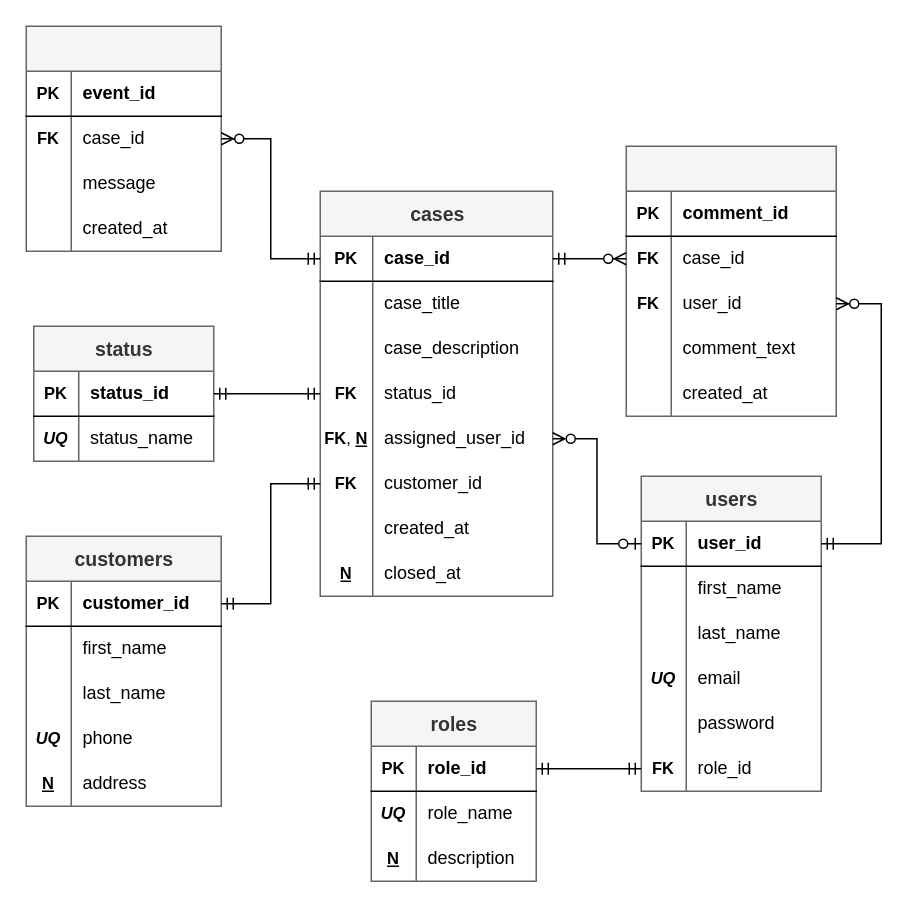
The diagram is 921 pixels wide and 908 high, and some of its shapes have lost their labels. The box of each missing label's shape, as (x1, y1, x2, y2) in pixels:
comments: (625, 145, 836, 416)
events: (25, 25, 221, 251)
